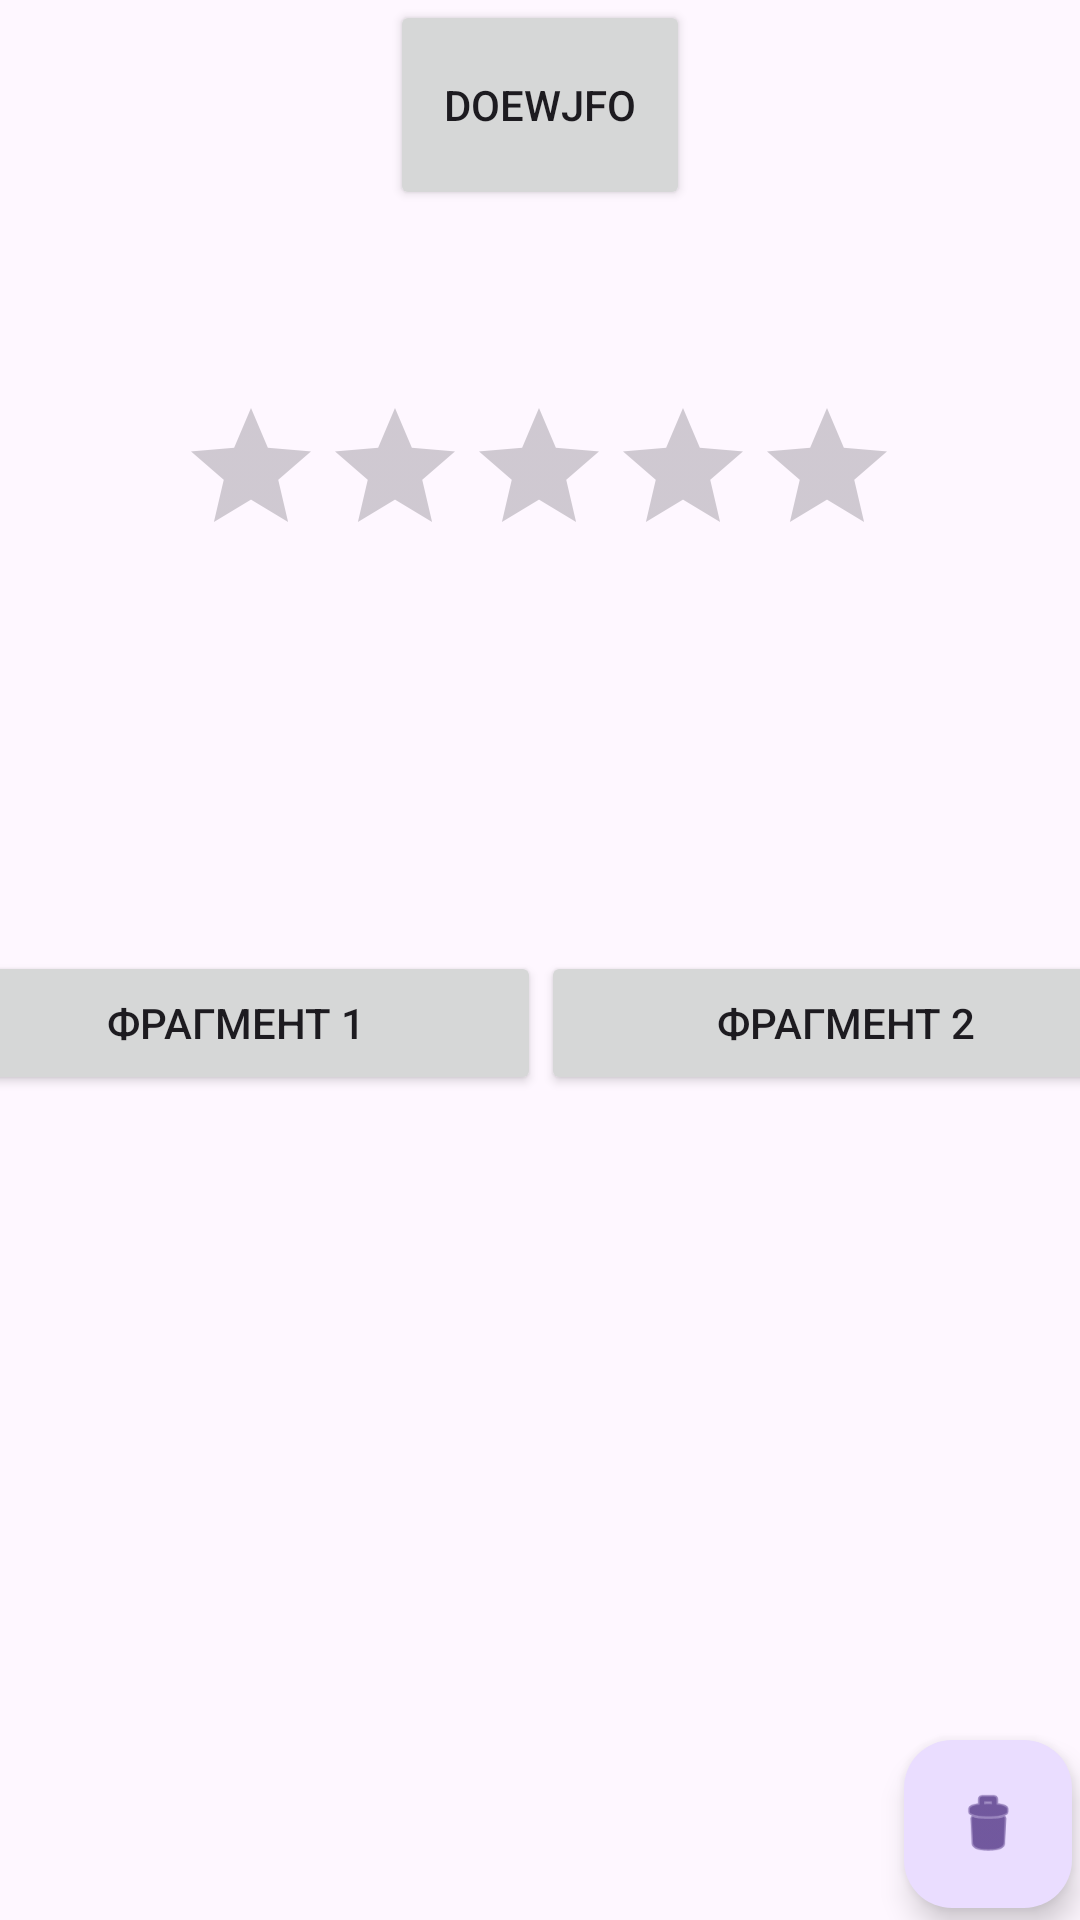

Locate icon controls on the screen. Image size 1080 × 1920, boxes as (x1, y1, x2, y2).
delete: (904, 1740, 1072, 1908)
